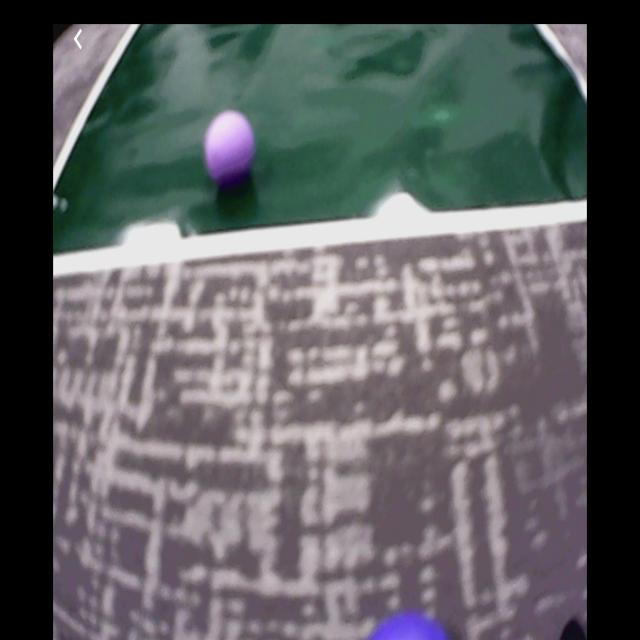ball: (206, 110, 254, 181), (366, 609, 450, 640)
